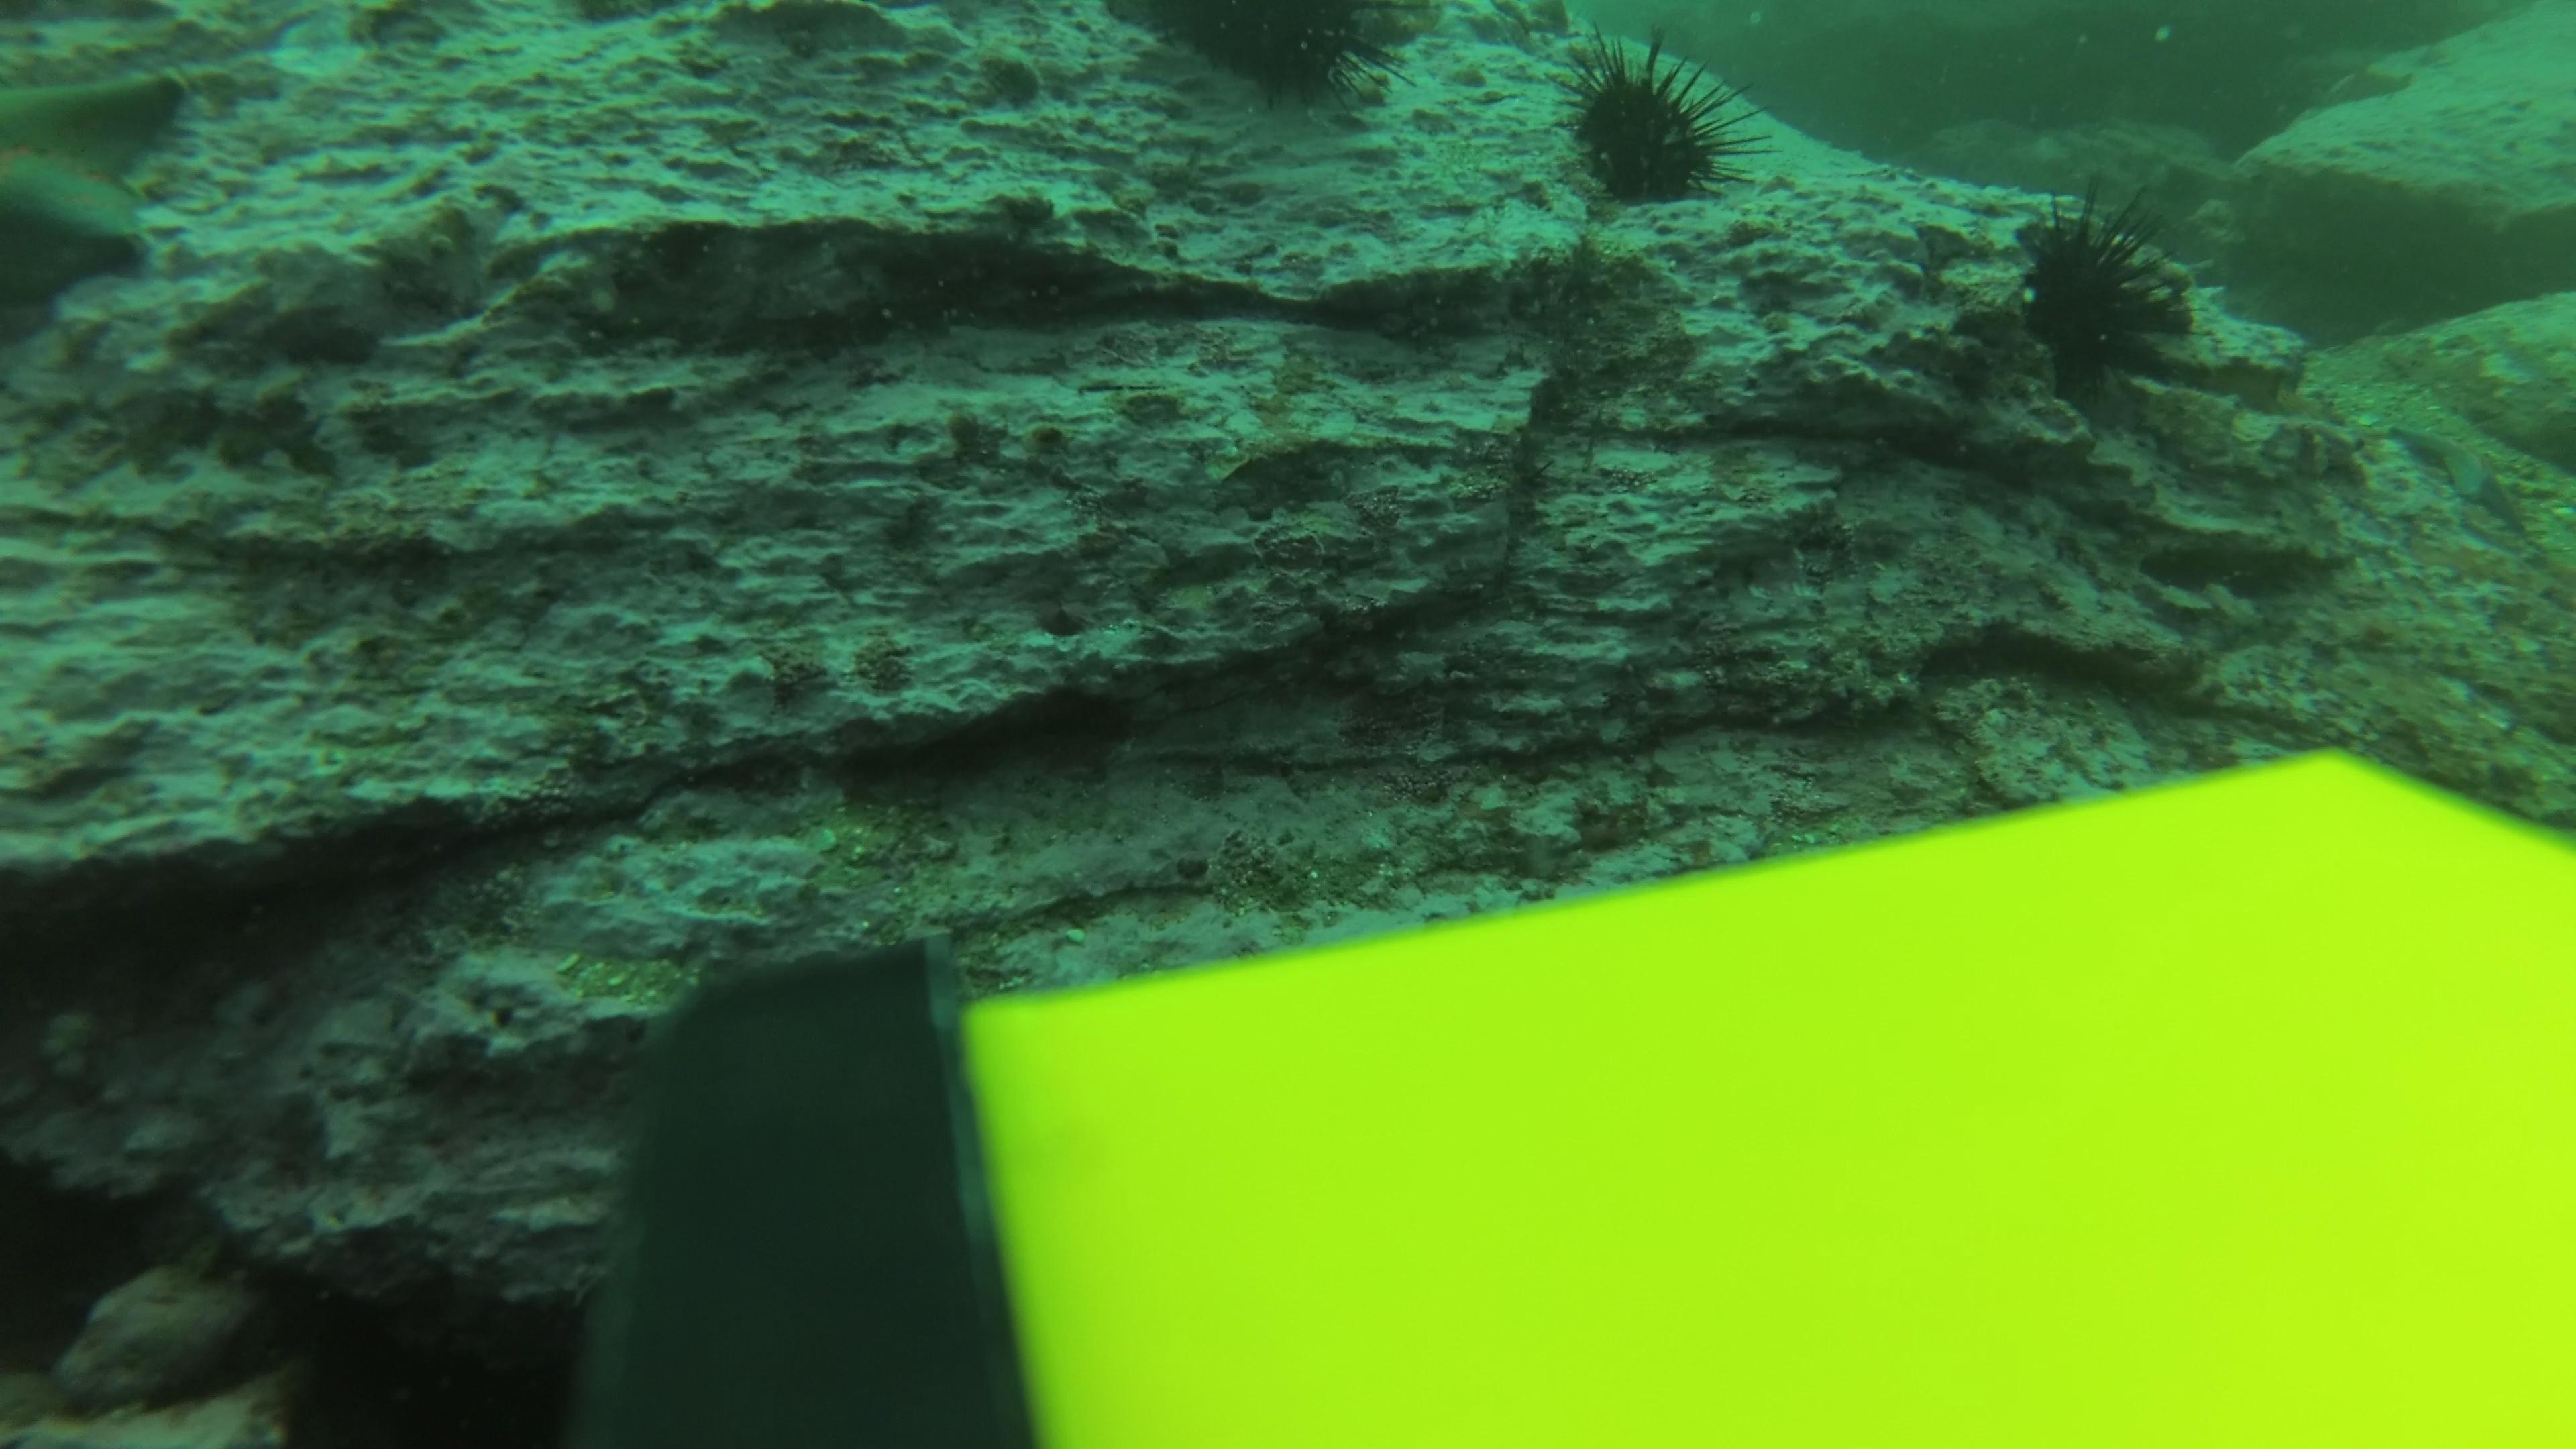echinus: (1999, 188, 2210, 416), (1548, 30, 1760, 216), (1138, 2, 1421, 122)
starfish: (0, 53, 205, 315), (2376, 409, 2534, 525), (2312, 50, 2424, 111)
